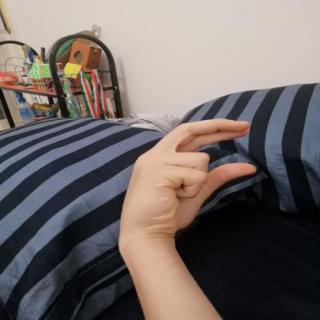DHELL: (110, 114, 265, 240)
